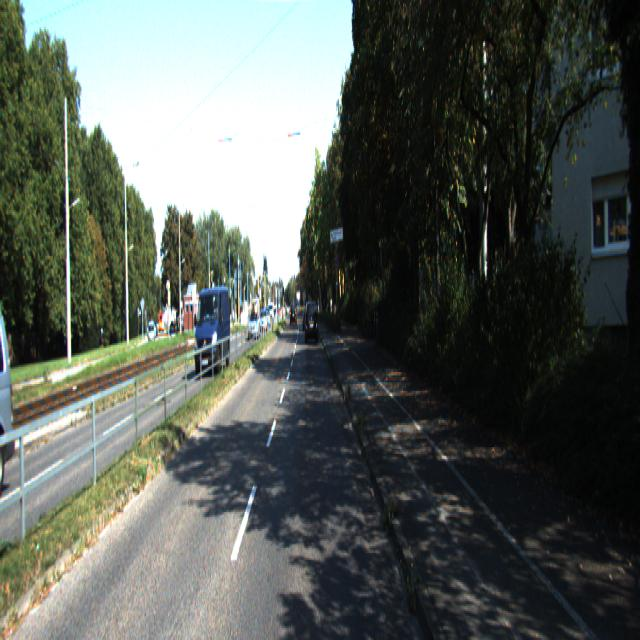Car: (0, 293, 21, 499), (195, 283, 231, 379), (305, 300, 319, 345)
